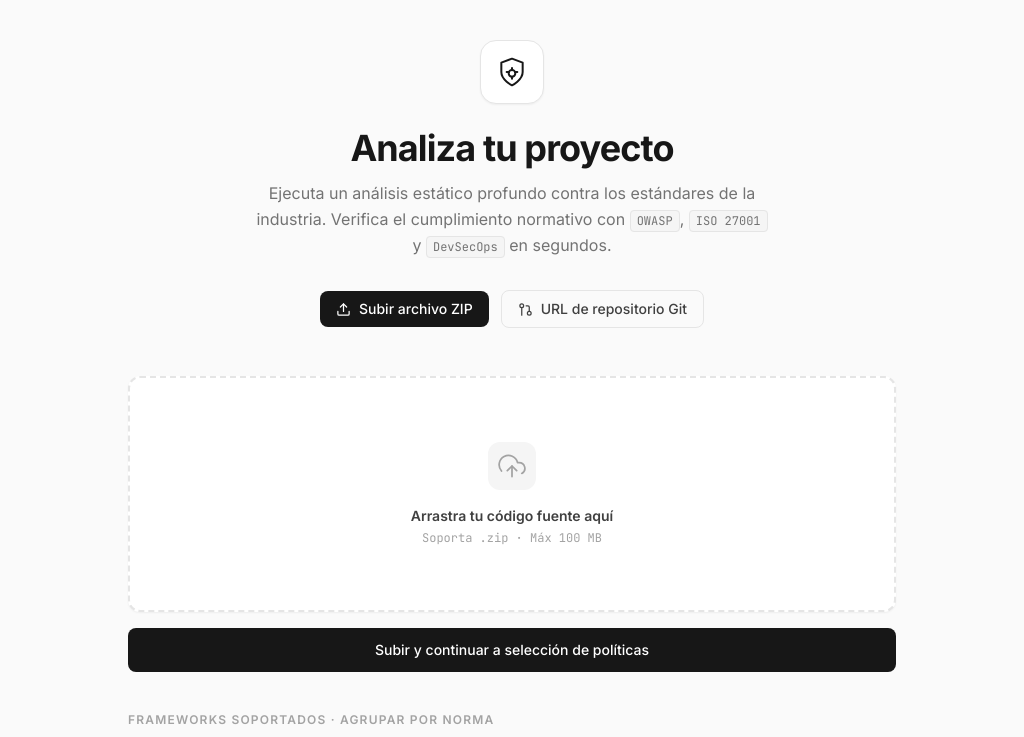
it: Dashboard: clone from a Git URL › shows the Bitbucket Cloud token hint for bitbucket.org and no hint for GitHub
Step 1. Click the button "URL de repositorio Git" → (602, 309), box [501, 290, 704, 328]
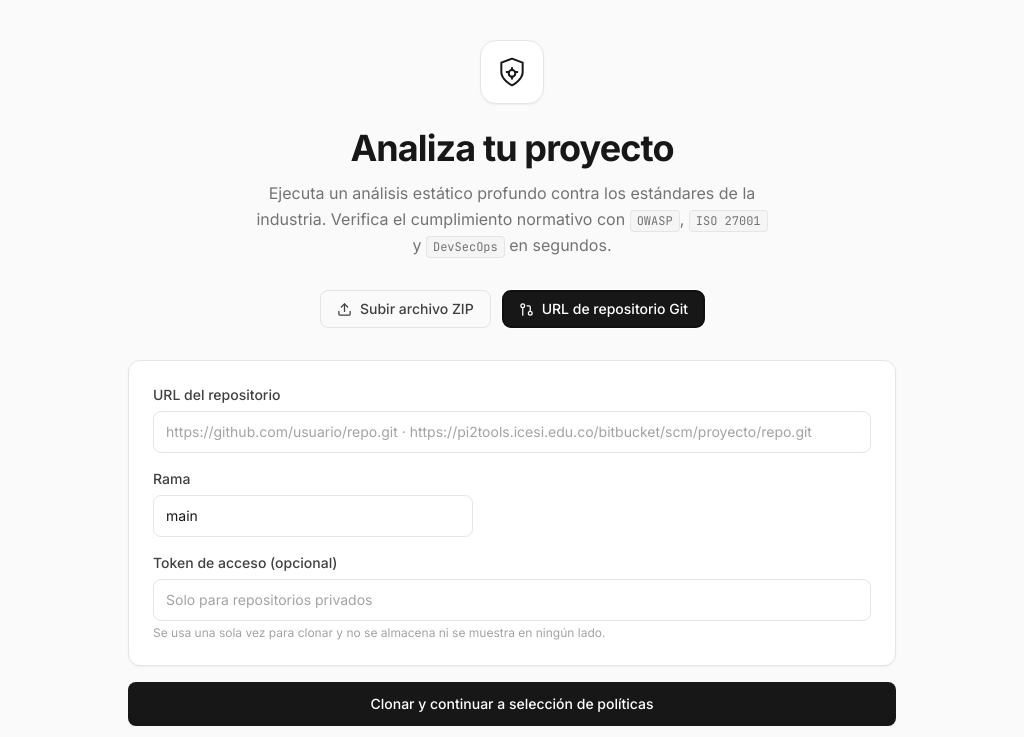
Step 2. Type "https://github.com/usuario/repo.git" into the field labelled "URL del repositorio" → (512, 432), box [153, 411, 871, 453]
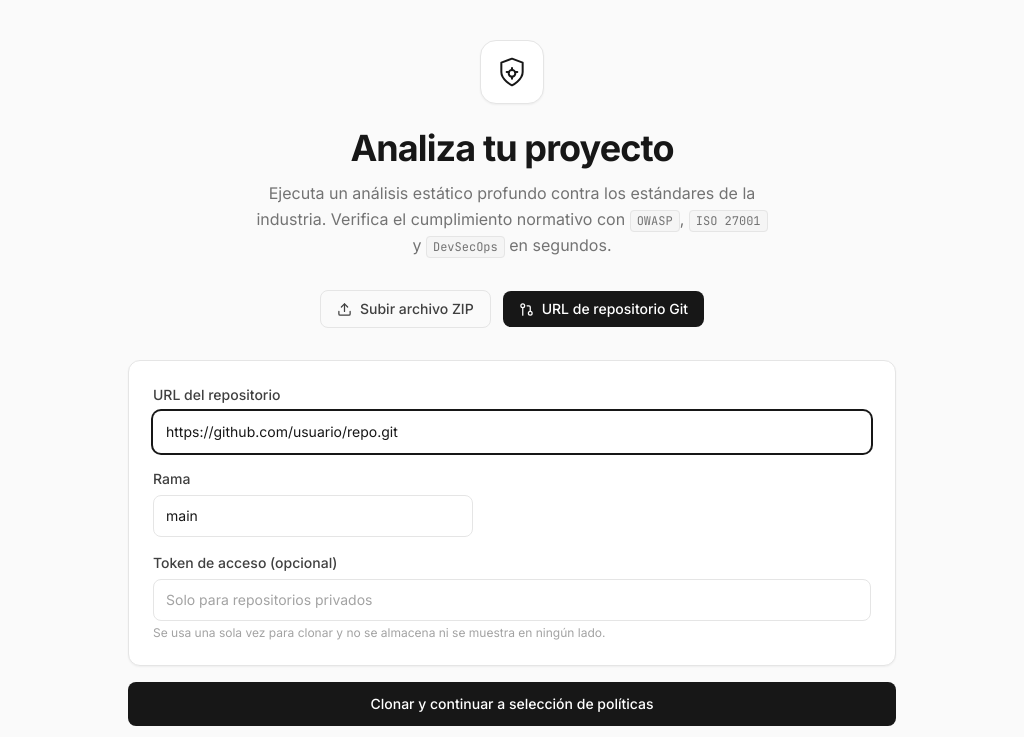
Expected: the text "read:repository:bitbucket" is not shown
Expected: the text "botón «clone» de bitbucket" is not shown
Step 3. Replace the text in the field labelled "URL del repositorio" with "https://bitbucket.org/equipo/repo.git" → (512, 432), box [153, 411, 871, 453]
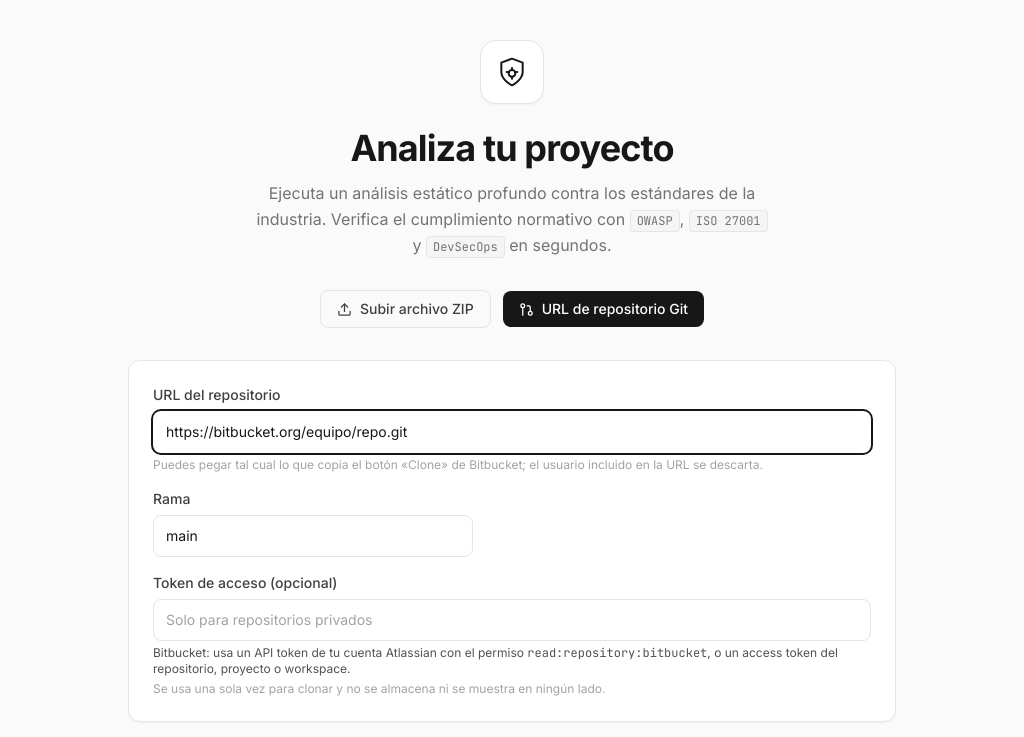
Now the text "read:repository:bitbucket" is shown, box [527, 645, 707, 661]
